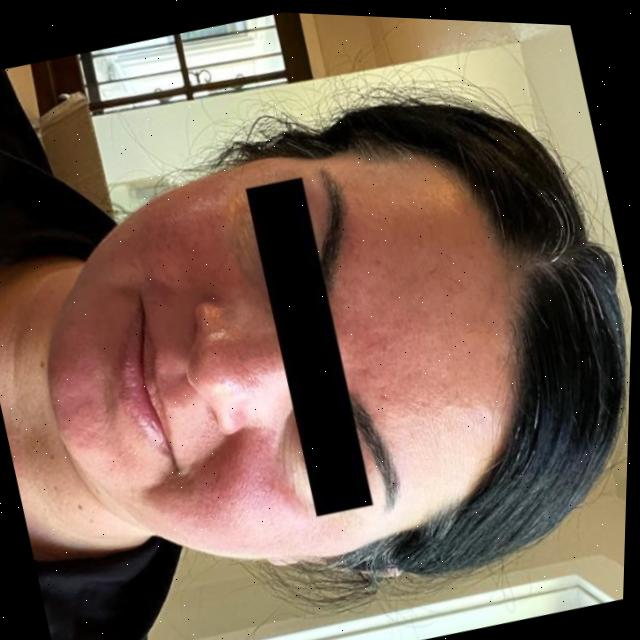Rosacea: (136, 410, 316, 567), (89, 161, 261, 324), (28, 309, 138, 474)
